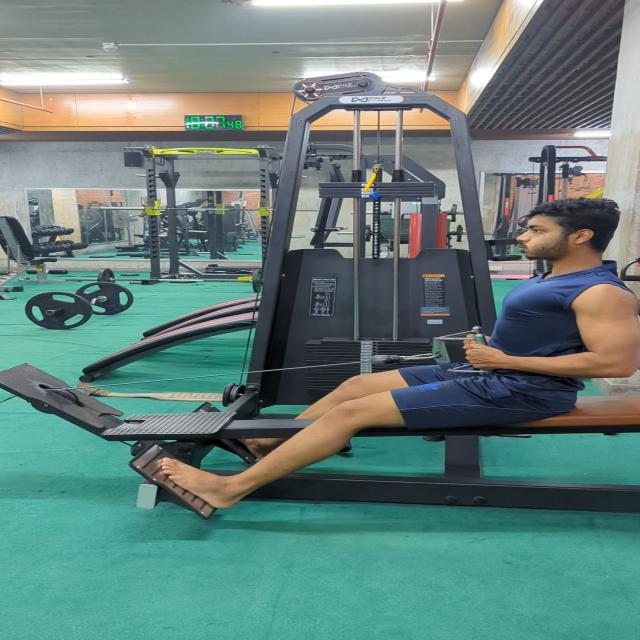Normal_RowingMachineExercise: (158, 197, 640, 510)
